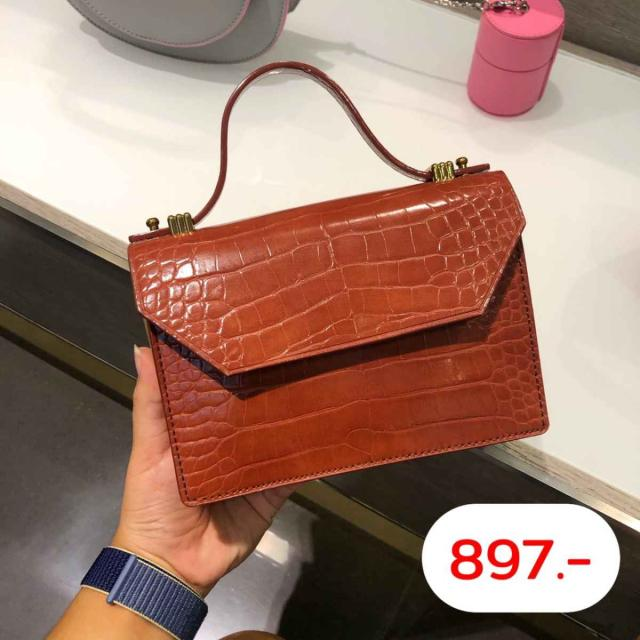Handbag: (130, 52, 552, 510)
